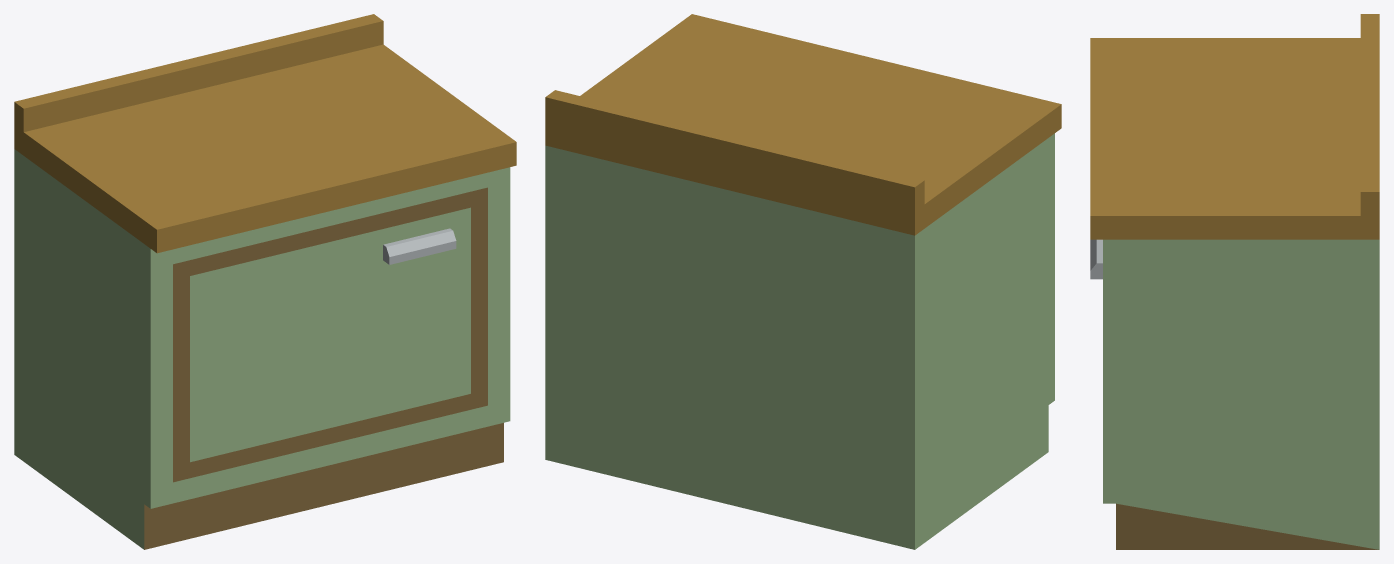
File: counter.glb
3 views of the same model, side by side, from view 1: azimuth 30°, elevation 25°; view 2: azimuth 150°, elevation 25°; view 3: azimuth 270°, elevation 25° (orthographic). The views are drawn at different scales.
Parts seen in each view (by area): view 1: counter; view 2: counter; view 3: counter.
Part boxes in pixels (<box>): counter: <box>14,14,516,549</box>; counter: <box>545,14,1061,549</box>; counter: <box>1090,14,1379,549</box>.
Size of the model in its own units: 0.96 by 0.9 by 0.66.
